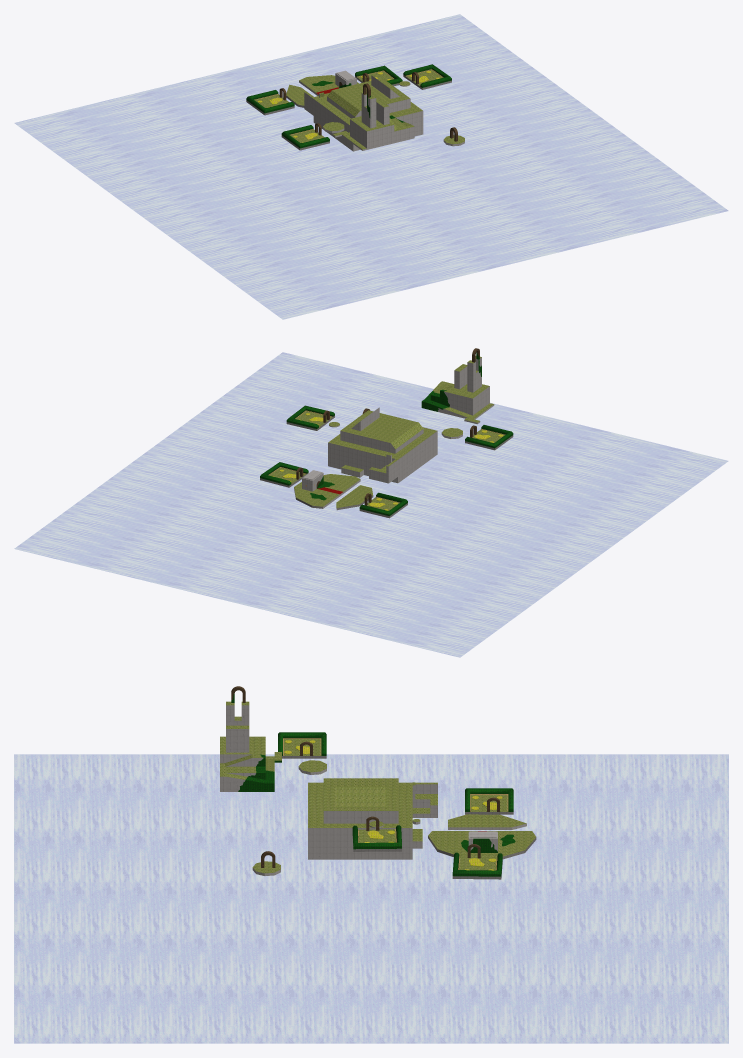
Rendered from Skygarden.dae.
The picture shows the model from 3 angles, top to bottom: view 1: azimuth 30°, elevation 25°; view 2: azimuth 150°, elevation 25°; view 3: azimuth 270°, elevation 25°; orthographic projection. The views are drawn at different scales.
Visible parts, largest first — view 1: Piranha Plant Gardens REDONE; view 2: Piranha Plant Gardens REDONE; view 3: Piranha Plant Gardens REDONE.
Boxes of the visible parts, x1,y1,x2,y2 form: Piranha Plant Gardens REDONE: (14, 14, 728, 319); Piranha Plant Gardens REDONE: (14, 348, 728, 657); Piranha Plant Gardens REDONE: (14, 686, 728, 1043).
Size of the model in its own units: 2.52 by 2.63 by 0.717.
10 materials, 9 textured.
